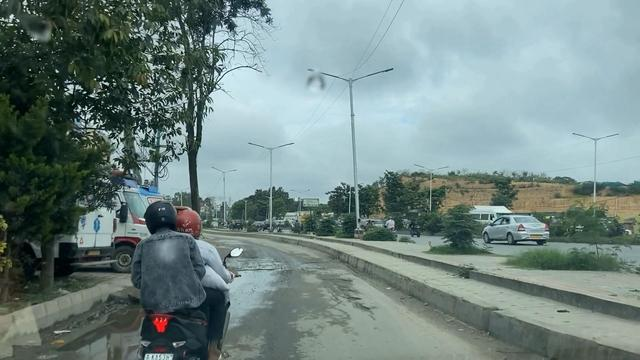LMV: (138, 206, 212, 360)
RoadDamages: (322, 272, 385, 326), (234, 248, 297, 271)
